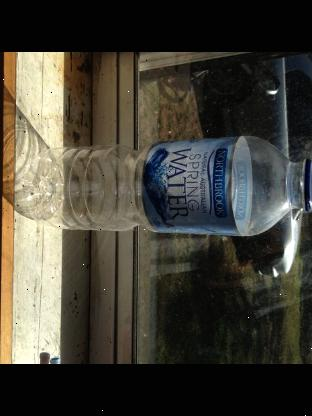Plastic Bottle: (33, 129, 312, 245)
